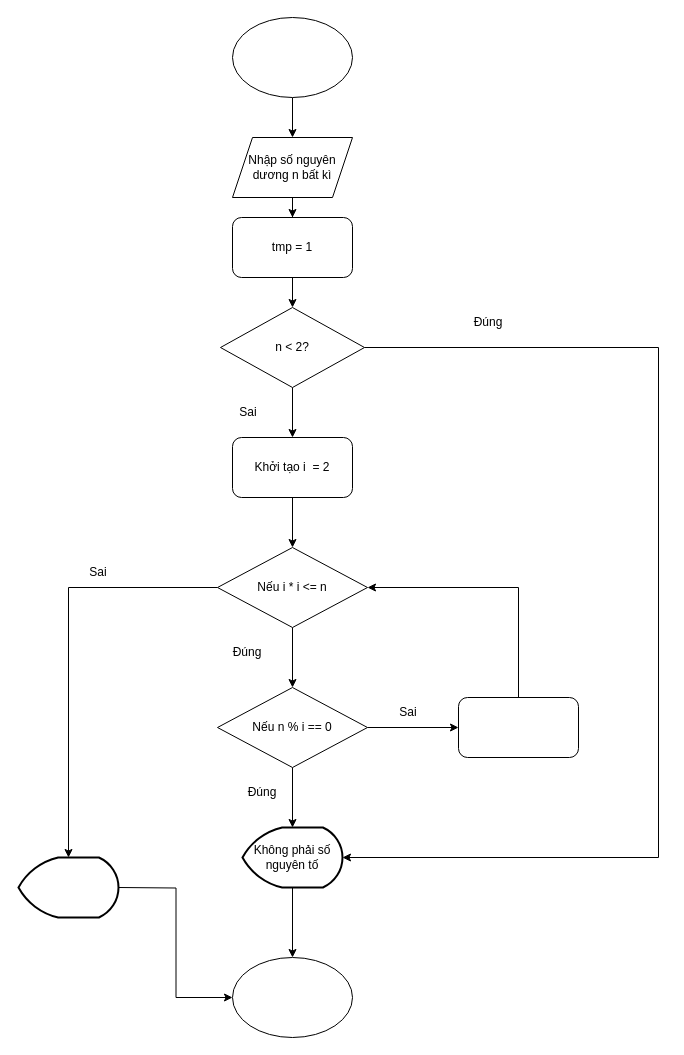
The diagram is 684 pixels wide and 1055 high, and some of its shapes have lost their labels. The shapes that lost their labels are listed below. From the top down, each one's centre as x and y in pixels, then its label:
the point at 292,57: Bắt đầu
the point at 518,727: Tăng biến i thêm 1
the point at 68,887: Là số nguyên tố
the point at 292,997: Kết thúc
